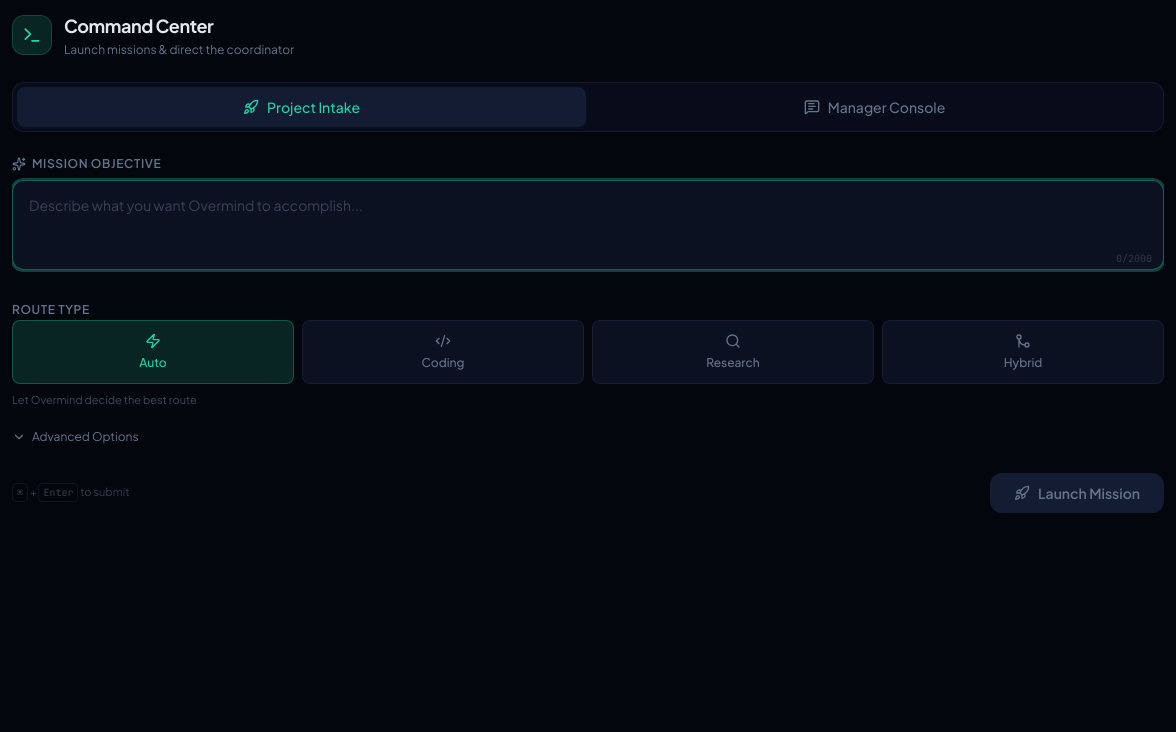
Scenario: ControlPage › Intake Tab › shows advanced options when toggled
The width and height of the screenshot is (1176, 732).
Click the button "Advanced Options": click(75, 436) top-left (12, 428), bottom-right (139, 444)
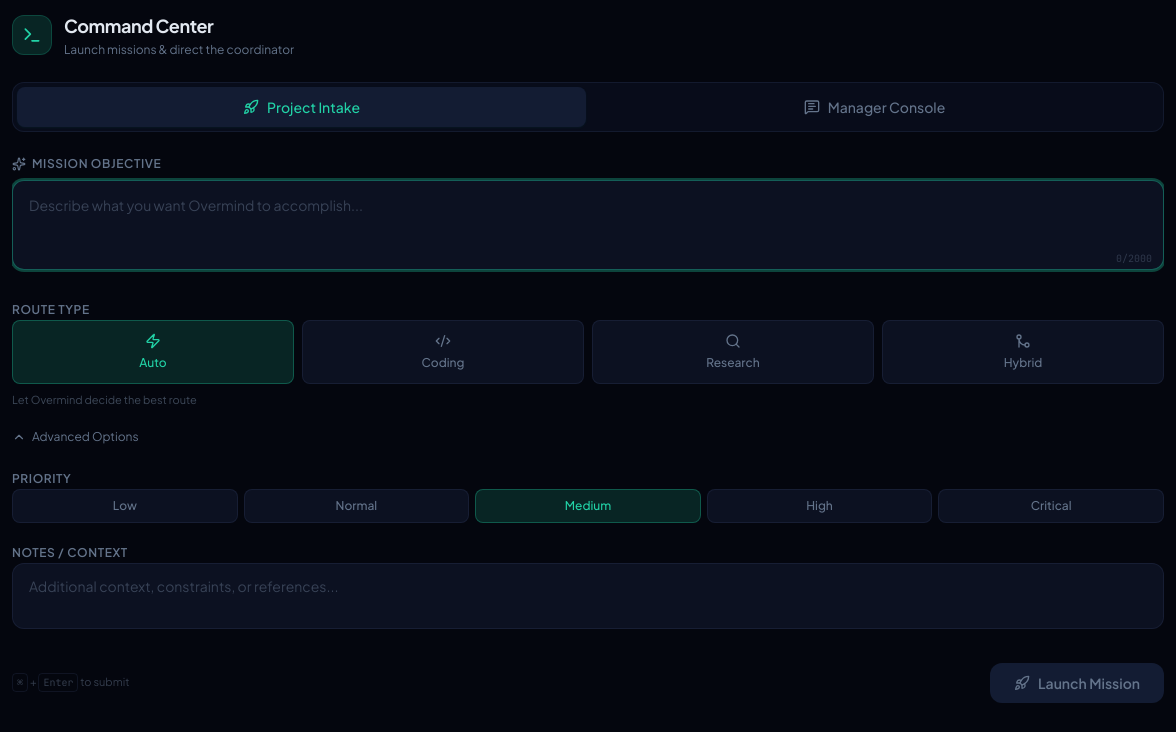
Result: the text "Notes / Context" is shown at top-left (12, 544), bottom-right (128, 560)
